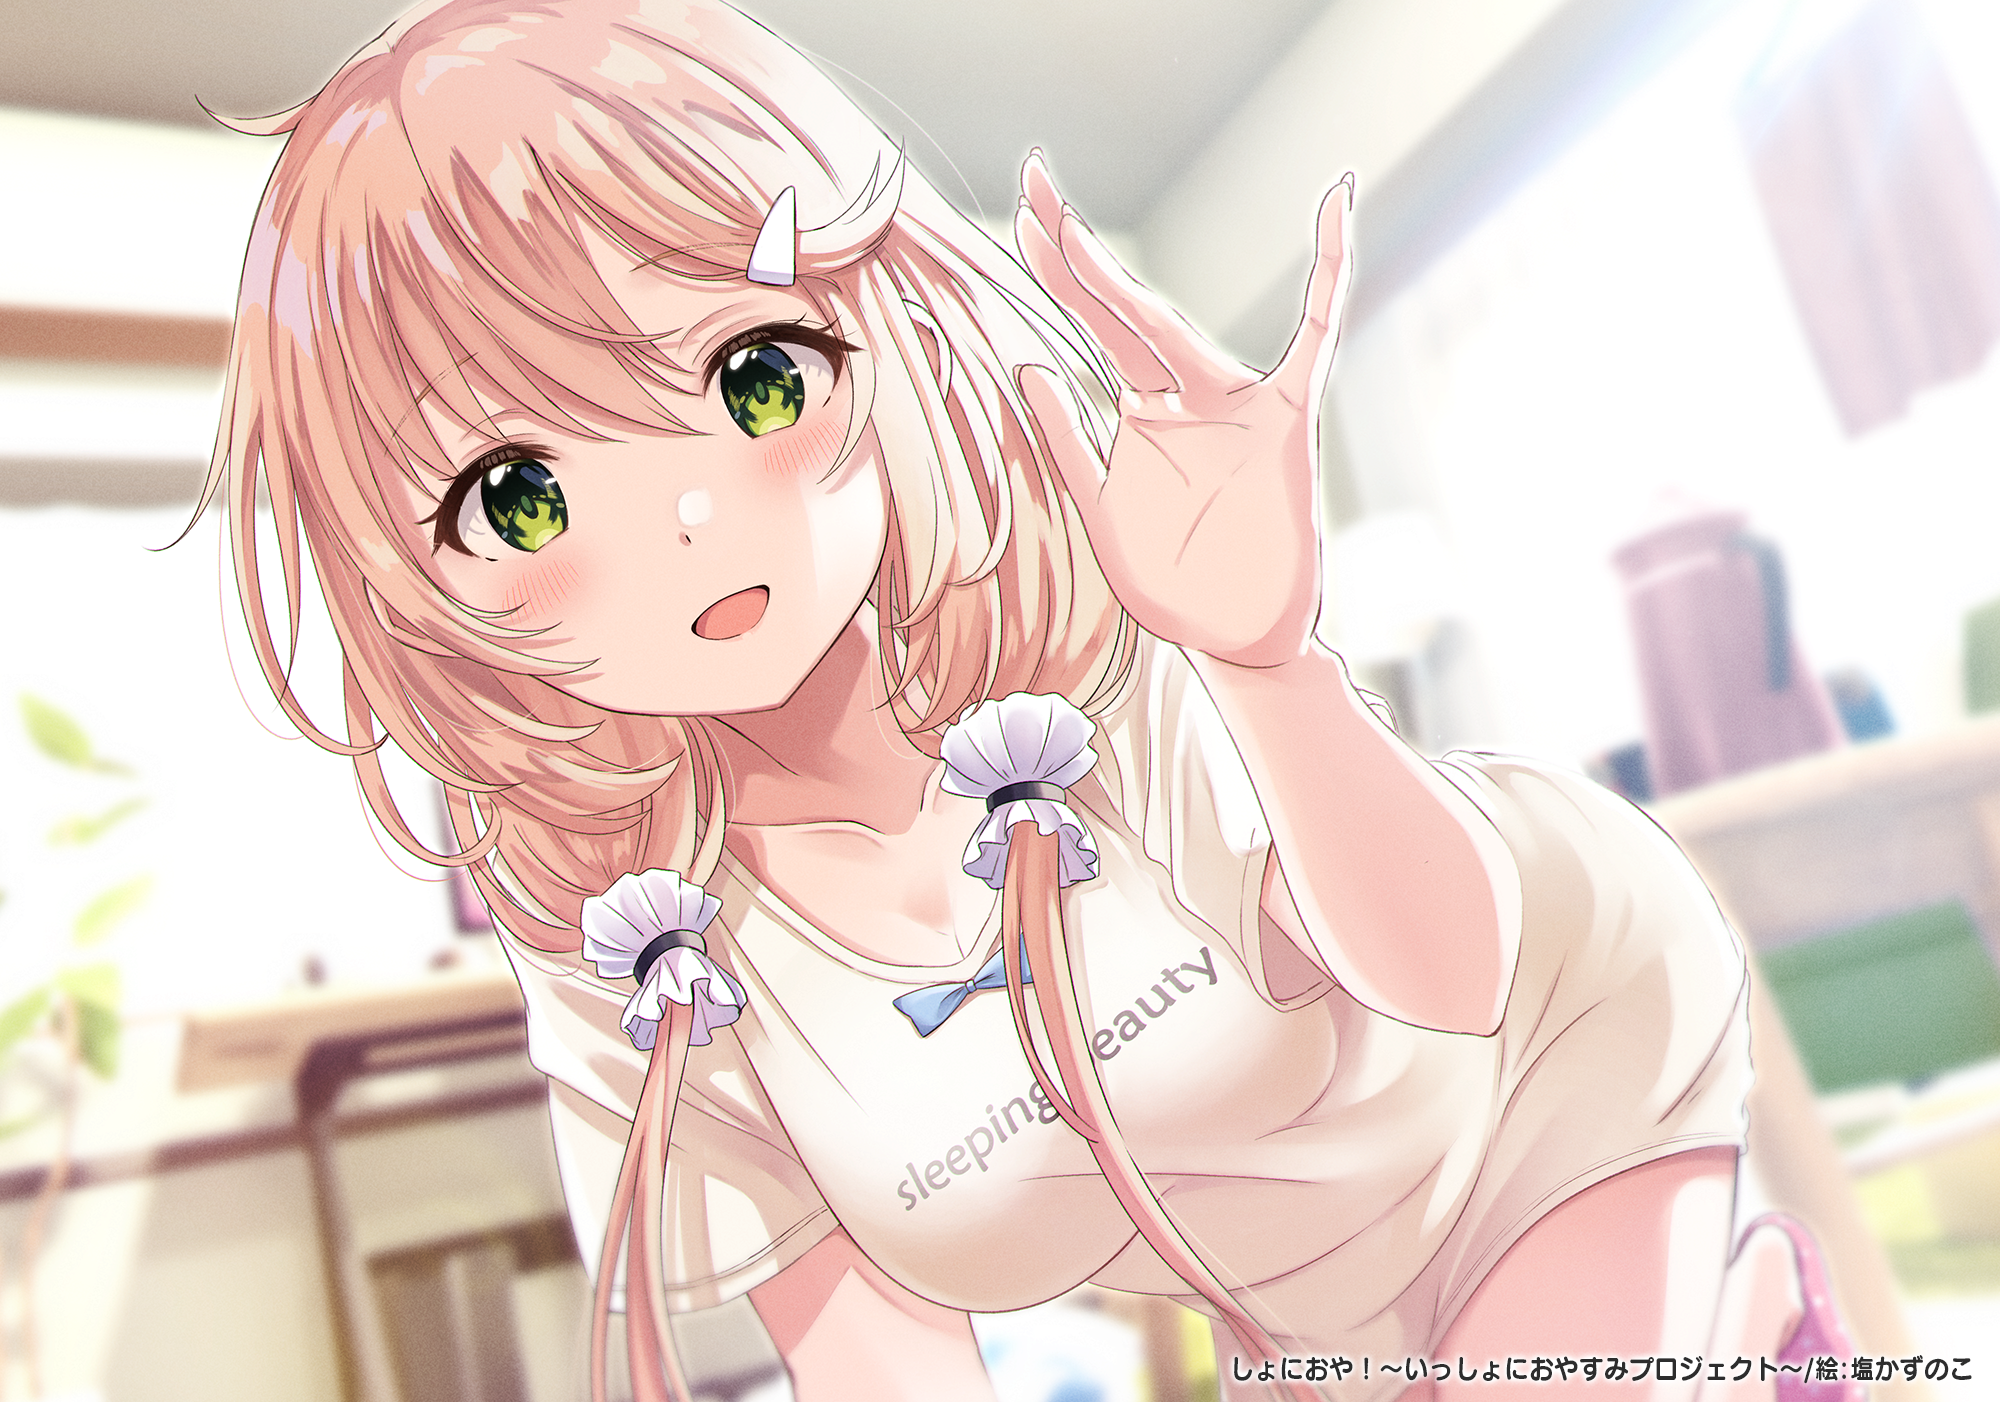纸片人正脸: (218, 0, 1036, 758)
